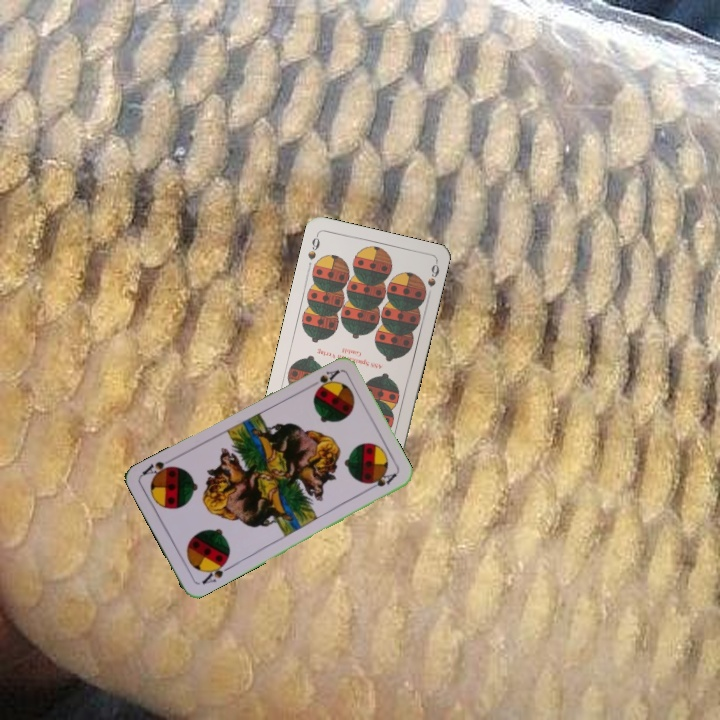S9: (304, 230, 322, 262)
SA: (305, 365, 343, 394), (198, 557, 234, 587)
